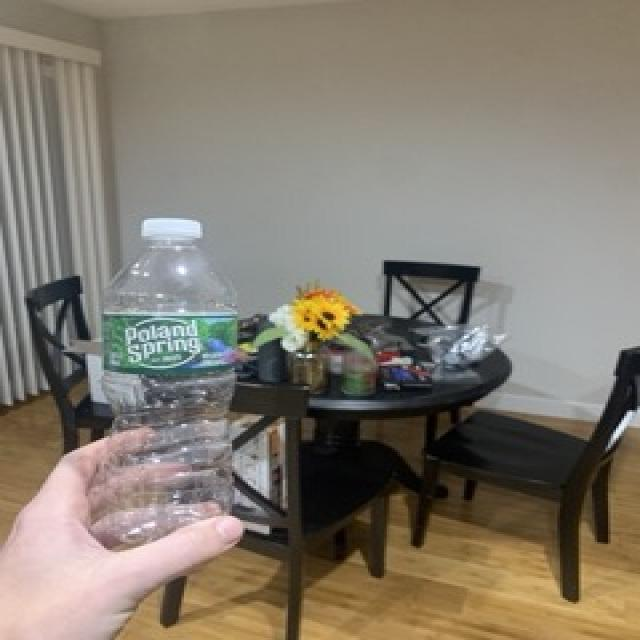water_bottle: (92, 216, 243, 554)
